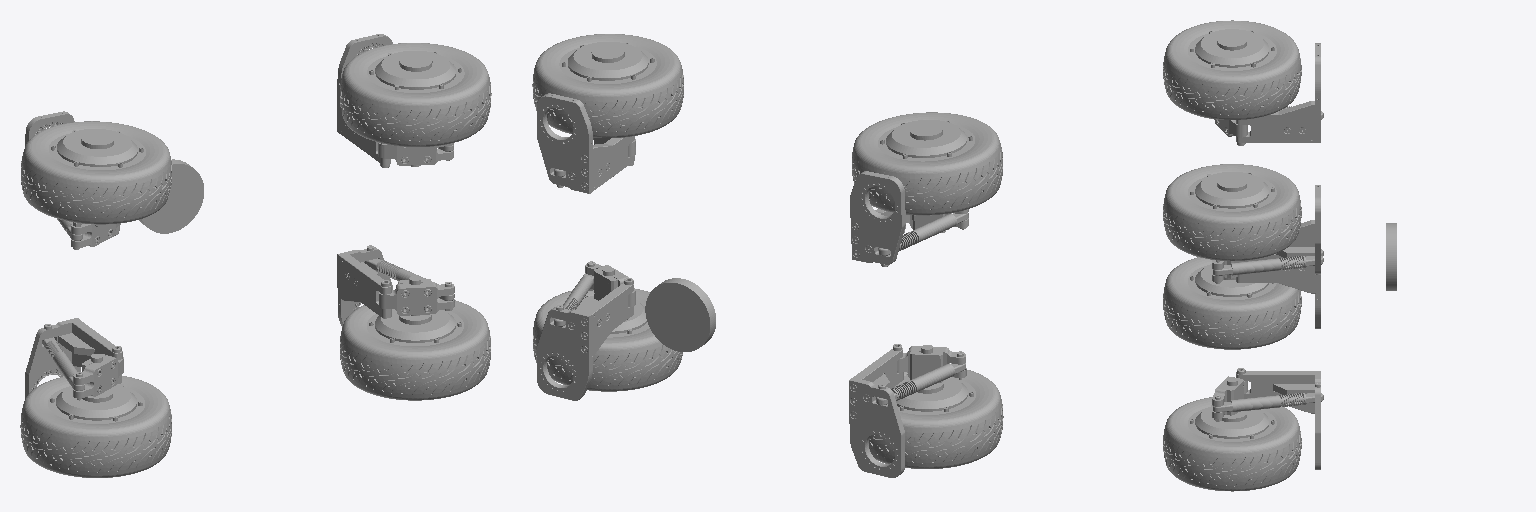
URDF robot description (rgm2_urdf):
<?xml version="1.0" ?>
<!-- =================================================================================== -->
<!-- |    This document was autogenerated by xacro from /cortex/.catkin_ws/src/extend_ranger_ros/ranger_description/rgm2_urdf_description/urdf/rgm2_urdf.xacro | -->
<!-- |    EDITING THIS FILE BY HAND IS NOT RECOMMENDED                                 | -->
<!-- =================================================================================== -->
<robot name="rgm2_urdf">
    <material name="mobile_base_silver">
        <color rgba="0.700 0.700 0.700 1.000" />
    </material>
    <transmission name="steer_fr_rt_tran">
        <type>transmission_interface/SimpleTransmission</type>
        <joint name="steer_fr_rt">
            <hardwareInterface>hardware_interface/EffortJointInterface</hardwareInterface>
        </joint>
        <actuator name="steer_fr_rt_actr">
            <hardwareInterface>hardware_interface/EffortJointInterface</hardwareInterface>
            <mechanicalReduction>1</mechanicalReduction>
        </actuator>
    </transmission>
    <transmission name="steer_fr_lt_tran">
        <type>transmission_interface/SimpleTransmission</type>
        <joint name="steer_fr_lt">
            <hardwareInterface>hardware_interface/EffortJointInterface</hardwareInterface>
        </joint>
        <actuator name="steer_fr_lt_actr">
            <hardwareInterface>hardware_interface/EffortJointInterface</hardwareInterface>
            <mechanicalReduction>1</mechanicalReduction>
        </actuator>
    </transmission>
    <transmission name="steer_rr_rt_tran">
        <type>transmission_interface/SimpleTransmission</type>
        <joint name="steer_rr_rt">
            <hardwareInterface>hardware_interface/EffortJointInterface</hardwareInterface>
        </joint>
        <actuator name="steer_rr_rt_actr">
            <hardwareInterface>hardware_interface/EffortJointInterface</hardwareInterface>
            <mechanicalReduction>1</mechanicalReduction>
        </actuator>
    </transmission>
    <transmission name="steer_rr_lt_tran">
        <type>transmission_interface/SimpleTransmission</type>
        <joint name="steer_rr_lt">
            <hardwareInterface>hardware_interface/EffortJointInterface</hardwareInterface>
        </joint>
        <actuator name="steer_rr_lt_actr">
            <hardwareInterface>hardware_interface/EffortJointInterface</hardwareInterface>
            <mechanicalReduction>1</mechanicalReduction>
        </actuator>
    </transmission>
    <transmission name="wheel_rr_rt_tran">
        <type>transmission_interface/SimpleTransmission</type>
        <joint name="wheel_rr_rt">
            <hardwareInterface>hardware_interface/EffortJointInterface</hardwareInterface>
        </joint>
        <actuator name="wheel_rr_rt_actr">
            <hardwareInterface>hardware_interface/EffortJointInterface</hardwareInterface>
            <mechanicalReduction>1</mechanicalReduction>
        </actuator>
    </transmission>
    <transmission name="wheel_rr_lt_tran">
        <type>transmission_interface/SimpleTransmission</type>
        <joint name="wheel_rr_lt">
            <hardwareInterface>hardware_interface/EffortJointInterface</hardwareInterface>
        </joint>
        <actuator name="wheel_rr_lt_actr">
            <hardwareInterface>hardware_interface/EffortJointInterface</hardwareInterface>
            <mechanicalReduction>1</mechanicalReduction>
        </actuator>
    </transmission>
    <transmission name="wheel_fr_rt_tran">
        <type>transmission_interface/SimpleTransmission</type>
        <joint name="wheel_fr_rt">
            <hardwareInterface>hardware_interface/EffortJointInterface</hardwareInterface>
        </joint>
        <actuator name="wheel_fr_rt_actr">
            <hardwareInterface>hardware_interface/EffortJointInterface</hardwareInterface>
            <mechanicalReduction>1</mechanicalReduction>
        </actuator>
    </transmission>
    <transmission name="wheel_fr_lt_tran">
        <type>transmission_interface/SimpleTransmission</type>
        <joint name="wheel_fr_lt">
            <hardwareInterface>hardware_interface/EffortJointInterface</hardwareInterface>
        </joint>
        <actuator name="wheel_fr_lt_actr">
            <hardwareInterface>hardware_interface/EffortJointInterface</hardwareInterface>
            <mechanicalReduction>1</mechanicalReduction>
        </actuator>
    </transmission>
    <gazebo>
        <plugin filename="libgazebo_ros_control.so" name="control" />
        <plugin name="gazebo_ros_control" filename="libgazebo_ros_control.so">
            <robotNamespace>/</robotNamespace>
        </plugin>
    </gazebo>
    <gazebo reference="base_link">
        <material>Gazebo/Silver</material>
        <mu1>0.2</mu1>
        <mu2>0.2</mu2>
        <selfCollide>true</selfCollide>
        <gravity>true</gravity>
    </gazebo>
    <gazebo reference="chassis_link_1">
        <material>Gazebo/Silver</material>
        <mu1>0.2</mu1>
        <mu2>0.2</mu2>
        <selfCollide>true</selfCollide>
    </gazebo>
    <gazebo reference="suspension_fr_rt_1">
        <material>Gazebo/Silver</material>
        <mu1>0.2</mu1>
        <mu2>0.2</mu2>
        <selfCollide>true</selfCollide>
    </gazebo>
    <gazebo reference="suspension_fr_lt_1">
        <material>Gazebo/Silver</material>
        <mu1>0.2</mu1>
        <mu2>0.2</mu2>
        <selfCollide>true</selfCollide>
    </gazebo>
    <gazebo reference="suspension_rr_rt_1">
        <material>Gazebo/Silver</material>
        <mu1>0.2</mu1>
        <mu2>0.2</mu2>
        <selfCollide>true</selfCollide>
    </gazebo>
    <gazebo reference="suspension_rr_lt_1">
        <material>Gazebo/Silver</material>
        <mu1>0.2</mu1>
        <mu2>0.2</mu2>
        <selfCollide>true</selfCollide>
    </gazebo>
    <gazebo reference="wheel_rr_rt_1">
        <material>Gazebo/Silver</material>
        <mu1>0.2</mu1>
        <mu2>0.2</mu2>
        <selfCollide>true</selfCollide>
    </gazebo>
    <gazebo reference="wheel_rr_lt_1">
        <material>Gazebo/Silver</material>
        <mu1>0.2</mu1>
        <mu2>0.2</mu2>
        <selfCollide>true</selfCollide>
    </gazebo>
    <gazebo reference="wheel_fr_rt_1">
        <material>Gazebo/Silver</material>
        <mu1>0.2</mu1>
        <mu2>0.2</mu2>
        <selfCollide>true</selfCollide>
    </gazebo>
    <gazebo reference="wheel_fr_lt_1">
        <material>Gazebo/Silver</material>
        <mu1>0.2</mu1>
        <mu2>0.2</mu2>
        <selfCollide>true</selfCollide>
    </gazebo>
    <link name="mobile_base_base_link">
        <inertial>
            <origin rpy="0 0 0" xyz="8.49179958162807e-18 -0.007999999999999981 9.046911093940667e-18" />
            <mass value="0.9864600932271947" />
            <inertia ixx="0.000638" ixy="0.0" ixz="0.0" iyy="0.001233" iyz="0.0" izz="0.000638" />
        </inertial>
        <visual>
            <origin rpy="0 0 0" xyz="0 0 0" />
            <geometry>
                <mesh filename="package://rgm2_urdf_description/meshes/base_link.stl" scale="0.001 0.001 0.001" />
            </geometry>
            <material name="mobile_base_silver" />
        </visual>
        <collision>
            <origin rpy="0 0 0" xyz="0 0 0" />
            <geometry>
                <mesh filename="package://rgm2_urdf_description/meshes/base_link.stl" scale="0.001 0.001 0.001" />
            </geometry>
        </collision>
    </link>
    <link name="chassis_link_1">
        <inertial>
            <origin rpy="0 0 0" xyz="-0.00015663448702741786 -0.07998648635682189 0.0031872560228292856" />
            <mass value="348.1312624987616" />
            <inertia ixx="7.975673" ixy="0.00158" ixz="-0.001227" iyy="16.436851" iyz="0.042881" izz="10.964659" />
        </inertial>
        <visual>
            <origin rpy="0 0 0" xyz="0.0 0.016 -0.0" />
            <geometry>
                <mesh filename="package://rgm2_urdf_description/meshes/chassis_link_1.stl" scale="0.001 0.001 0.001" />
            </geometry>
            <material name="mobile_base_silver" />
        </visual>
        <collision>
            <origin rpy="0 0 0" xyz="0.0 0.016 -0.0" />
            <geometry>
                <mesh filename="package://rgm2_urdf_description/meshes/chassis_link_1.stl" scale="0.001 0.001 0.001" />
            </geometry>
        </collision>
    </link>
    <link name="suspension_fr_rt_1">
        <inertial>
            <origin rpy="0 0 0" xyz="0.014640231907272927 -0.06371871944049602 0.058574419175568174" />
            <mass value="1.9382603522517055" />
            <inertia ixx="0.00707" ixy="-0.000685" ixz="-7.6e-05" iyy="0.002866" iyz="0.001414" izz="0.006857" />
        </inertial>
        <visual>
            <origin rpy="0 0 0" xyz="0.247 0.11 0.182" />
            <geometry>
                <mesh filename="package://rgm2_urdf_description/meshes/suspension_fr_rt_1.stl" scale="0.001 0.001 0.001" />
            </geometry>
            <material name="mobile_base_silver" />
        </visual>
        <collision>
            <origin rpy="0 0 0" xyz="0.247 0.11 0.182" />
            <geometry>
                <mesh filename="package://rgm2_urdf_description/meshes/suspension_fr_rt_1.stl" scale="0.001 0.001 0.001" />
            </geometry>
        </collision>
    </link>
    <link name="suspension_fr_lt_1">
        <inertial>
            <origin rpy="0 0 0" xyz="0.011743499009803926 -0.06383574689038228 -0.059193546188179694" />
            <mass value="1.9407871447725409" />
            <inertia ixx="0.007097" ixy="-0.000765" ixz="6.7e-05" iyy="0.002873" iyz="-0.001378" izz="0.006878" />
        </inertial>
        <visual>
            <origin rpy="0 0 0" xyz="0.247 0.11 -0.182" />
            <geometry>
                <mesh filename="package://rgm2_urdf_description/meshes/suspension_fr_lt_1.stl" scale="0.001 0.001 0.001" />
            </geometry>
            <material name="mobile_base_silver" />
        </visual>
        <collision>
            <origin rpy="0 0 0" xyz="0.247 0.11 -0.182" />
            <geometry>
                <mesh filename="package://rgm2_urdf_description/meshes/suspension_fr_lt_1.stl" scale="0.001 0.001 0.001" />
            </geometry>
        </collision>
    </link>
    <link name="suspension_rr_rt_1">
        <inertial>
            <origin rpy="0 0 0" xyz="-0.014396113207629069 -0.06383596858460293 0.058604962383488626" />
            <mass value="1.9408097705055511" />
            <inertia ixx="0.007091" ixy="0.000702" ixz="7.7e-05" iyy="0.002873" iyz="0.001411" izz="0.006885" />
        </inertial>
        <visual>
            <origin rpy="0 0 0" xyz="-0.247 0.11 0.182" />
            <geometry>
                <mesh filename="package://rgm2_urdf_description/meshes/suspension_rr_rt_1.stl" scale="0.001 0.001 0.001" />
            </geometry>
            <material name="mobile_base_silver" />
        </visual>
        <collision>
            <origin rpy="0 0 0" xyz="-0.247 0.11 0.182" />
            <geometry>
                <mesh filename="package://rgm2_urdf_description/meshes/suspension_rr_rt_1.stl" scale="0.001 0.001 0.001" />
            </geometry>
        </collision>
    </link>
    <link name="suspension_rr_lt_1">
        <inertial>
            <origin rpy="0 0 0" xyz="-0.014950820054962788 -0.06370686401594124 -0.058494158461860166" />
            <mass value="1.937961478086929" />
            <inertia ixx="0.007067" ixy="0.000678" ixz="-7.8e-05" iyy="0.002866" iyz="-0.001417" izz="0.006856" />
        </inertial>
        <visual>
            <origin rpy="0 0 0" xyz="-0.247 0.11 -0.182" />
            <geometry>
                <mesh filename="package://rgm2_urdf_description/meshes/suspension_rr_lt_1.stl" scale="0.001 0.001 0.001" />
            </geometry>
            <material name="mobile_base_silver" />
        </visual>
        <collision>
            <origin rpy="0 0 0" xyz="-0.247 0.11 -0.182" />
            <geometry>
                <mesh filename="package://rgm2_urdf_description/meshes/suspension_rr_lt_1.stl" scale="0.001 0.001 0.001" />
            </geometry>
        </collision>
    </link>
    <link name="wheel_rr_rt_1">
        <inertial>
            <origin rpy="0 0 0" xyz="0.00029638891807975964 6.126400893258221e-07 -0.07517832535710992" />
            <mass value="17.88788451495294" />
            <inertia ixx="0.04995" ixy="-0.0" ixz="-0.000125" iyy="0.049949" iyz="0.0" izz="0.08215" />
        </inertial>
        <visual>
            <origin rpy="0 0 0" xyz="-0.244771 0.239803 0.110008" />
            <geometry>
                <mesh filename="package://rgm2_urdf_description/meshes/wheel_rr_rt_1.stl" scale="0.001 0.001 0.001" />
            </geometry>
            <material name="mobile_base_silver" />
        </visual>
        <collision>
            <origin rpy="0 0 0" xyz="-0.244771 0.239803 0.110008" />
            <geometry>
                <mesh filename="package://rgm2_urdf_description/meshes/wheel_rr_rt_1.stl" scale="0.001 0.001 0.001" />
            </geometry>
        </collision>
    </link>
    <link name="wheel_rr_lt_1">
        <inertial>
            <origin rpy="0 0 0" xyz="0.0009105506641918226 -1.6987539985802158e-08 0.07517316726994643" />
            <mass value="17.887704295106957" />
            <inertia ixx="0.049953" ixy="-0.0" ixz="0.000388" iyy="0.049948" iyz="-0.0" izz="0.082144" />
        </inertial>
        <visual>
            <origin rpy="0 0 0" xyz="-0.244183 0.239803 -0.110029" />
            <geometry>
                <mesh filename="package://rgm2_urdf_description/meshes/wheel_rr_lt_1.stl" scale="0.001 0.001 0.001" />
            </geometry>
            <material name="mobile_base_silver" />
        </visual>
        <collision>
            <origin rpy="0 0 0" xyz="-0.244183 0.239803 -0.110029" />
            <geometry>
                <mesh filename="package://rgm2_urdf_description/meshes/wheel_rr_lt_1.stl" scale="0.001 0.001 0.001" />
            </geometry>
        </collision>
    </link>
    <link name="wheel_fr_rt_1">
        <inertial>
            <origin rpy="0 0 0" xyz="-0.0005136307447963784 -2.4700365872099006e-07 -0.07517690568577137" />
            <mass value="17.88788857038676" />
            <inertia ixx="0.049951" ixy="-0.0" ixz="0.000218" iyy="0.049949" iyz="0.0" izz="0.082149" />
        </inertial>
        <visual>
            <origin rpy="0 0 0" xyz="0.244563 0.239803 0.110015" />
            <geometry>
                <mesh filename="package://rgm2_urdf_description/meshes/wheel_fr_rt_1.stl" scale="0.001 0.001 0.001" />
            </geometry>
            <material name="mobile_base_silver" />
        </visual>
        <collision>
            <origin rpy="0 0 0" xyz="0.244563 0.239803 0.110015" />
            <geometry>
                <mesh filename="package://rgm2_urdf_description/meshes/wheel_fr_rt_1.stl" scale="0.001 0.001 0.001" />
            </geometry>
        </collision>
    </link>
    <link name="wheel_fr_lt_1">
        <inertial>
            <origin rpy="0 0 0" xyz="0.00308931969338197 2.1448699738524368e-07 0.07511523670676262" />
            <mass value="17.88770315589408" />
            <inertia ixx="0.050003" ixy="-0.0" ixz="0.001324" iyy="0.049948" iyz="-0.0" izz="0.082094" />
        </inertial>
        <visual>
            <origin rpy="0 0 0" xyz="0.248015 0.239803 -0.109981" />
            <geometry>
                <mesh filename="package://rgm2_urdf_description/meshes/wheel_fr_lt_1.stl" scale="0.001 0.001 0.001" />
            </geometry>
            <material name="mobile_base_silver" />
        </visual>
        <collision>
            <origin rpy="0 0 0" xyz="0.248015 0.239803 -0.109981" />
            <geometry>
                <mesh filename="package://rgm2_urdf_description/meshes/wheel_fr_lt_1.stl" scale="0.001 0.001 0.001" />
            </geometry>
        </collision>
    </link>
    <joint name="base_atch_point" type="fixed">
        <origin rpy="0 0 0" xyz="0.0 -0.016 0.0" />
        <parent link="mobile_base_base_link" />
        <child link="chassis_link_1" />
    </joint>
    <joint name="steer_fr_rt" type="revolute">
        <origin rpy="0 0 0" xyz="-0.247 -0.094 -0.182" />
        <parent link="chassis_link_1" />
        <child link="suspension_fr_rt_1" />
        <axis xyz="0.0 -1.0 0.0" />
        <limit effort="100" lower="-1.570796" upper="1.570796" velocity="100" />
    </joint>
    <joint name="steer_fr_lt" type="revolute">
        <origin rpy="0 0 0" xyz="-0.247 -0.094 0.182" />
        <parent link="chassis_link_1" />
        <child link="suspension_fr_lt_1" />
        <axis xyz="0.0 -1.0 0.0" />
        <limit effort="100" lower="-1.570796" upper="1.570796" velocity="100" />
    </joint>
    <joint name="steer_rr_rt" type="revolute">
        <origin rpy="0 0 0" xyz="0.247 -0.094 -0.182" />
        <parent link="chassis_link_1" />
        <child link="suspension_rr_rt_1" />
        <axis xyz="0.0 -1.0 0.0" />
        <limit effort="100" lower="-1.570796" upper="1.570796" velocity="100" />
    </joint>
    <joint name="steer_rr_lt" type="revolute">
        <origin rpy="0 0 0" xyz="0.247 -0.094 0.182" />
        <parent link="chassis_link_1" />
        <child link="suspension_rr_lt_1" />
        <axis xyz="0.0 -1.0 0.0" />
        <limit effort="100" lower="-1.570796" upper="1.570796" velocity="100" />
    </joint>
    <joint name="wheel_rr_rt" type="continuous">
        <origin rpy="0 0 0" xyz="-0.002229 -0.129803 0.071992" />
        <parent link="suspension_rr_rt_1" />
        <child link="wheel_rr_rt_1" />
        <axis xyz="0.003967 -0.0 -0.999992" />
    </joint>
    <joint name="wheel_rr_lt" type="continuous">
        <origin rpy="0 0 0" xyz="-0.002817 -0.129803 -0.071971" />
        <parent link="suspension_rr_lt_1" />
        <child link="wheel_rr_lt_1" />
        <axis xyz="-0.012145 0.0 -0.999926" />
    </joint>
    <joint name="wheel_fr_rt" type="continuous">
        <origin rpy="0 0 0" xyz="0.002437 -0.129803 0.071985" />
        <parent link="suspension_fr_rt_1" />
        <child link="wheel_fr_rt_1" />
        <axis xyz="-0.006858 -0.0 -0.999976" />
    </joint>
    <joint name="wheel_fr_lt" type="continuous">
        <origin rpy="0 0 0" xyz="-0.001015 -0.129803 -0.072019" />
        <parent link="suspension_fr_lt_1" />
        <child link="wheel_fr_lt_1" />
        <axis xyz="-0.041054 0.0 -0.999157" />
    </joint>
</robot>

--- Render facts (derived) ---
3 views of the same robot in one strip: view 1: azimuth 30°, elevation 25°; view 2: azimuth 150°, elevation 25°; view 3: azimuth 270°, elevation 25° (orthographic).
Model rgm2_urdf with 10 links and 9 joints (4 revolute, 4 continuous, 1 fixed), rooted at mobile_base_base_link, posed every joint at zero.
Links seen in each view (by area): view 1: wheel_rr_lt_1, wheel_fr_lt_1, wheel_fr_rt_1, wheel_rr_rt_1, suspension_rr_rt_1, suspension_fr_rt_1, suspension_rr_lt_1, mobile_base_base_link, suspension_fr_lt_1; view 2: wheel_rr_lt_1, wheel_fr_lt_1, wheel_fr_rt_1, suspension_fr_rt_1, suspension_rr_rt_1, wheel_rr_rt_1, suspension_rr_lt_1, suspension_fr_lt_1, mobile_base_base_link; view 3: wheel_fr_lt_1, wheel_rr_lt_1, wheel_rr_rt_1, wheel_fr_rt_1, suspension_rr_rt_1, suspension_fr_lt_1, suspension_rr_lt_1, suspension_fr_rt_1, mobile_base_base_link.
Boxes of the visible links, x1,y1,x2,y2 form: wheel_rr_lt_1: (340, 43, 491, 166); wheel_fr_lt_1: (21, 121, 171, 244); wheel_fr_rt_1: (20, 354, 171, 477); wheel_rr_rt_1: (340, 276, 490, 400); suspension_rr_rt_1: (337, 245, 454, 326); suspension_fr_rt_1: (25, 318, 123, 400); suspension_rr_lt_1: (337, 34, 453, 167); mobile_base_base_link: (139, 159, 203, 233); suspension_fr_lt_1: (25, 111, 120, 249); wheel_rr_lt_1: (532, 34, 683, 137); wheel_fr_lt_1: (852, 112, 1002, 235); wheel_fr_rt_1: (869, 345, 1003, 468); suspension_fr_rt_1: (849, 344, 966, 477); suspension_rr_rt_1: (537, 261, 635, 400); wheel_rr_rt_1: (533, 267, 682, 391); suspension_rr_lt_1: (537, 93, 635, 193); suspension_fr_lt_1: (850, 171, 968, 266); mobile_base_base_link: (645, 278, 715, 351); wheel_fr_lt_1: (1163, 20, 1301, 119); wheel_rr_lt_1: (1163, 164, 1301, 277); wheel_rr_rt_1: (1163, 378, 1301, 491); wheel_fr_rt_1: (1163, 257, 1301, 349); suspension_rr_rt_1: (1212, 368, 1323, 469); suspension_fr_lt_1: (1214, 43, 1323, 145); suspension_rr_lt_1: (1212, 185, 1323, 283); suspension_fr_rt_1: (1236, 249, 1323, 328); mobile_base_base_link: (1386, 223, 1396, 290).
Size in the robot's own frame: 0.6922 by 0.3408 by 0.4719 metres.
Meshes: 10 distinct files referenced, 9 mesh visuals loaded (9 binary STL); not drawn: 1 (reference not matched to a file when rendering).
